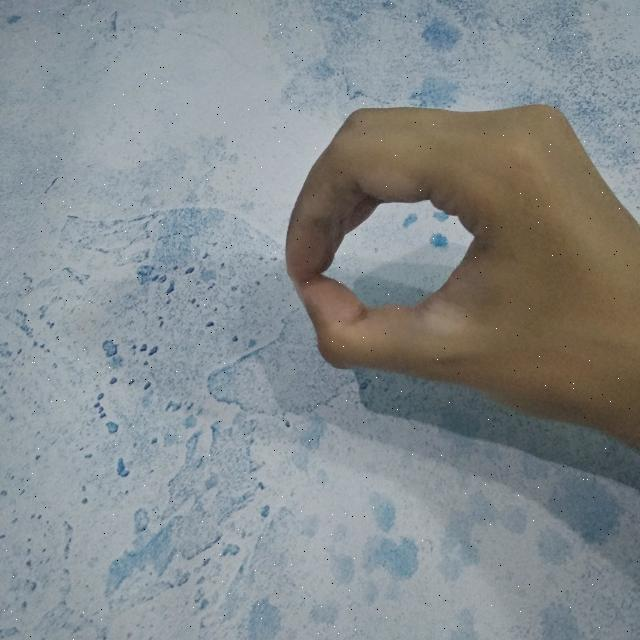O: (277, 92, 640, 461)
